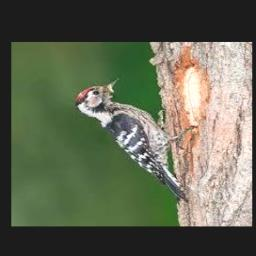Woodpecker: (74, 78, 197, 201)
